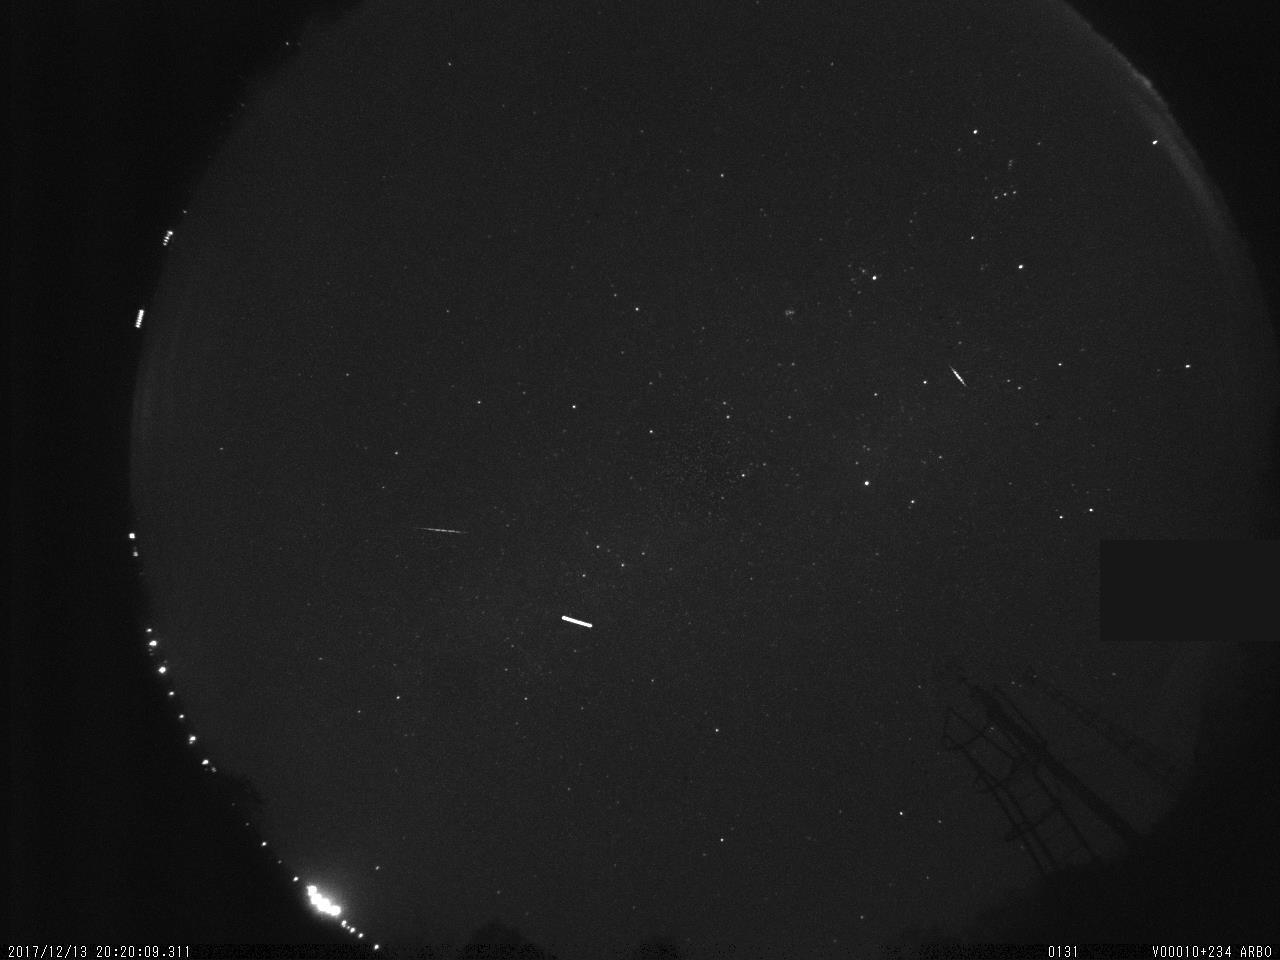meteor: (414, 520, 477, 544), (945, 355, 972, 394)
satelite: (558, 607, 597, 638)
